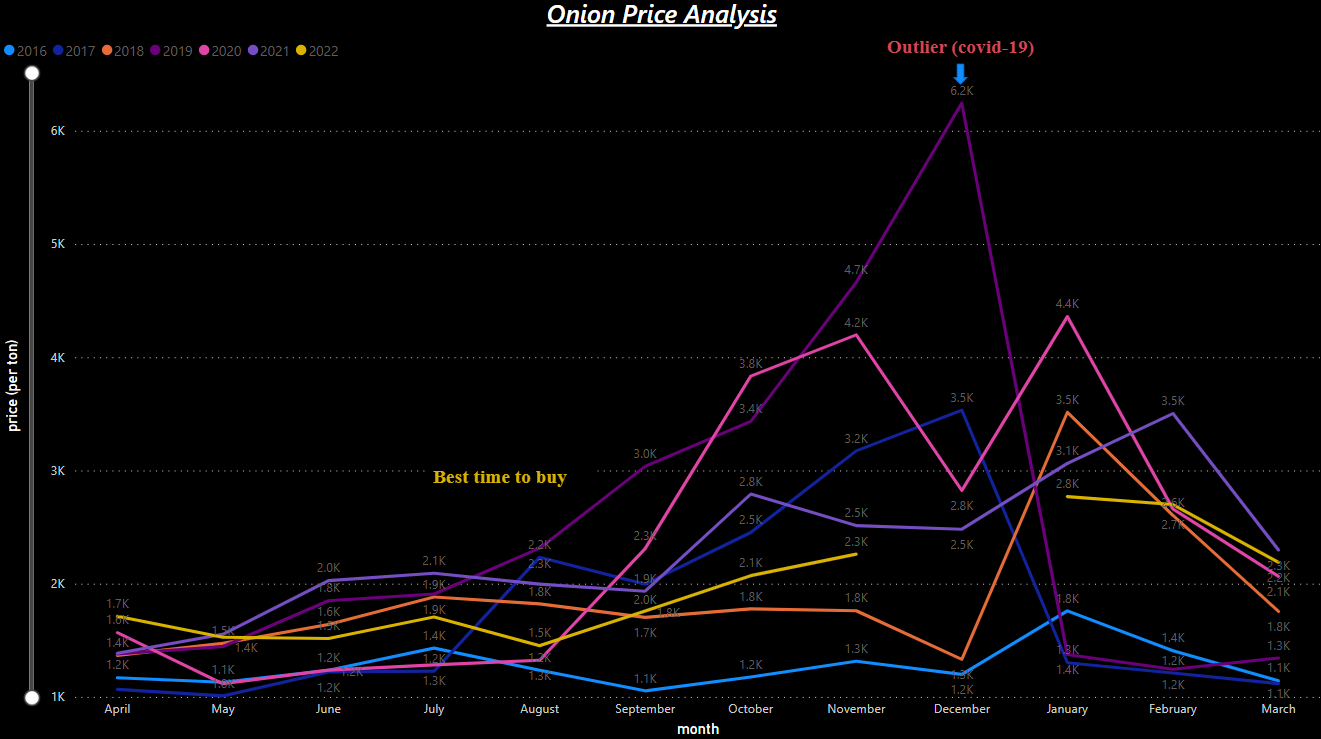

Layout of this report page (visuals, bound fields, positions):
{"tool":"powerbi","page":{"name":"Page 1","canvas":[1280,720],"ordinal":0},"visuals":[{"type":"lineChart","title":"Onion Price Analysis","fields":{"Category":["OnionPriceIndia.month"],"Y":["Sum(OnionPriceIndia.2016)","Sum(OnionPriceIndia.2017)","Sum(OnionPriceIndia.2018)","Sum(OnionPriceIndia.2019)","Sum(OnionPriceIndia.2020)","Sum(OnionPriceIndia.2021)","Sum(OnionPriceIndia.2022)"]},"box":[0,0,1280.8,720],"z":0},{"type":"textbox","box":[852.7,33.8,165.2,42.2],"z":1},{"type":"textbox","box":[414.9,448.6,162.8,39.8],"z":2},{"type":"shape","box":[921.4,65.1,14.5,20.5],"z":3}]}

Visuals, with their boxes in screenshot pixels (x1, y1, x2, y2), scaled from the page's 1280x720 canvas onto the 1321x739 screenshot:
"Onion Price Analysis" lineChart: x1=0 y1=0 x2=1320 y2=738
textbox: x1=880 y1=35 x2=1051 y2=78
textbox: x1=428 y1=460 x2=596 y2=501
shape: x1=951 y1=67 x2=966 y2=88
